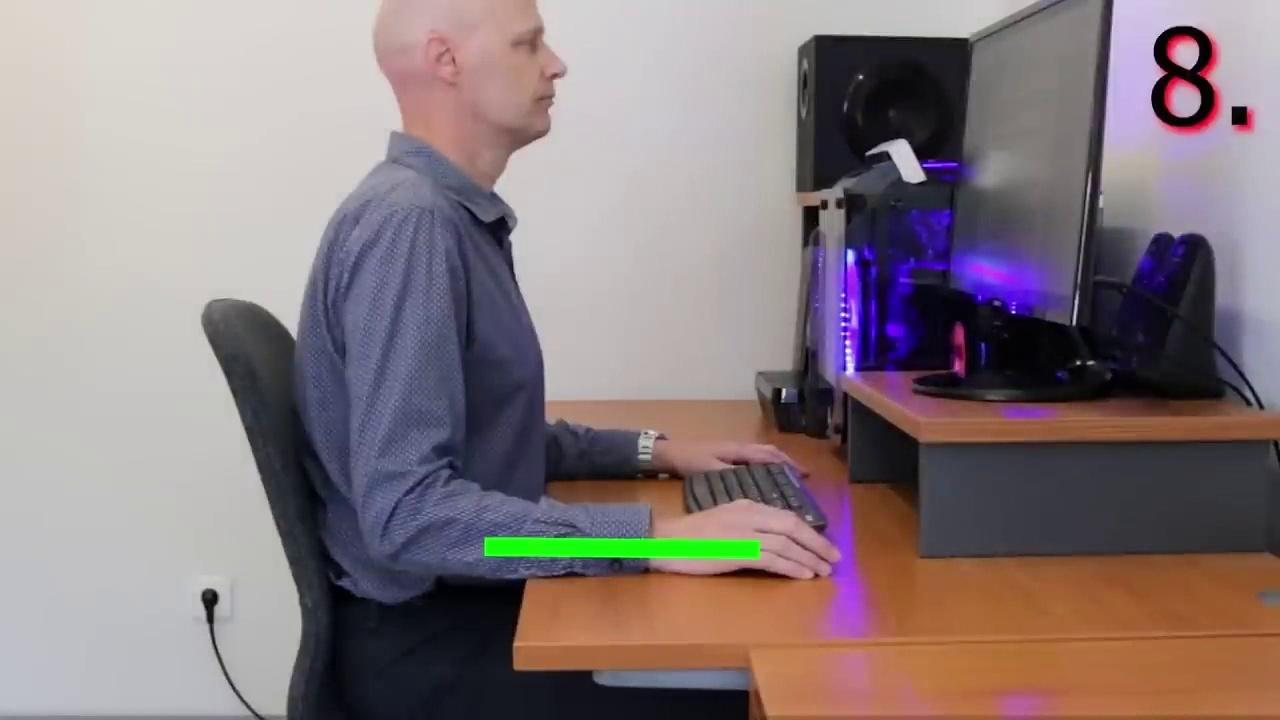GoodPosture: (295, 0, 830, 719)
